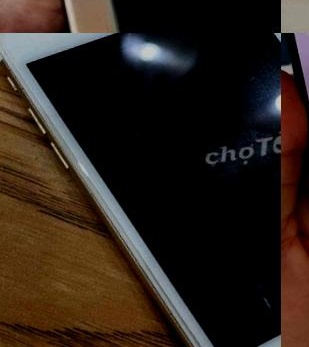scratch: (94, 199, 212, 347)
